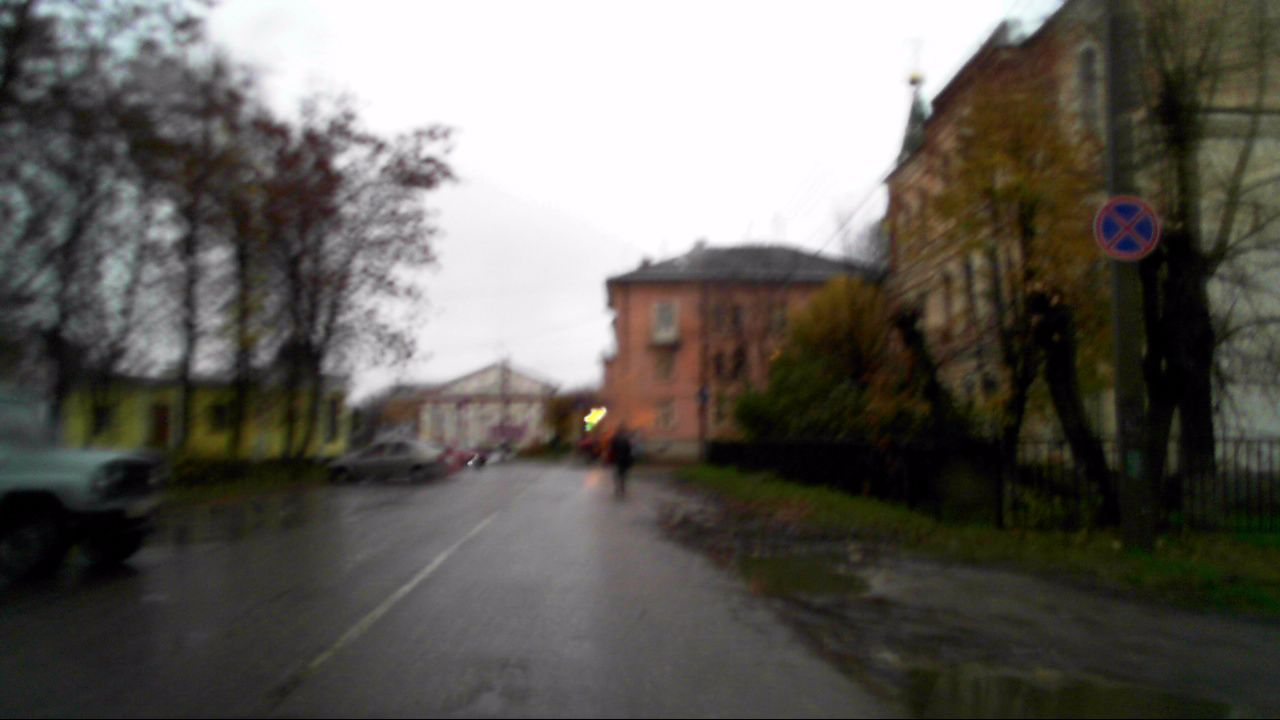No Parking: (1093, 194, 1161, 263)
